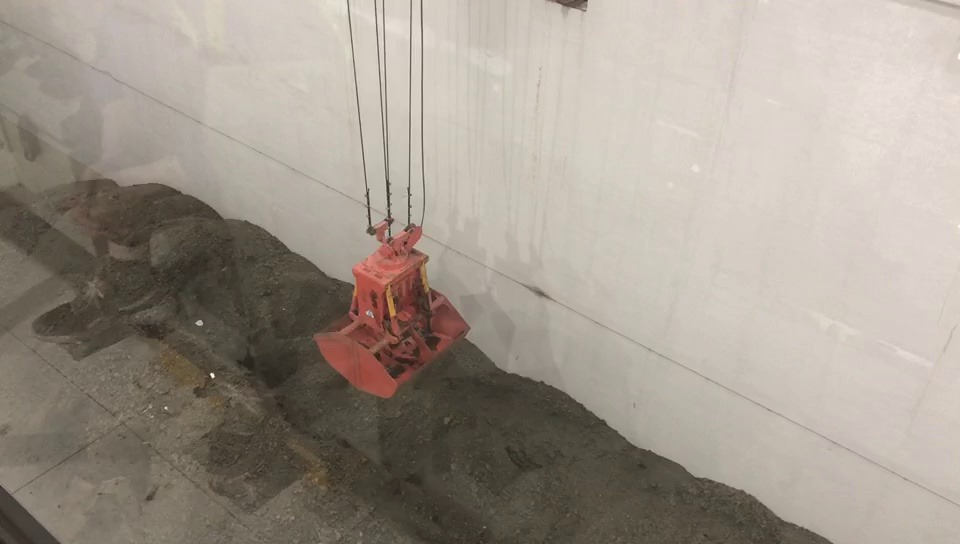grab: (309, 213, 475, 403)
